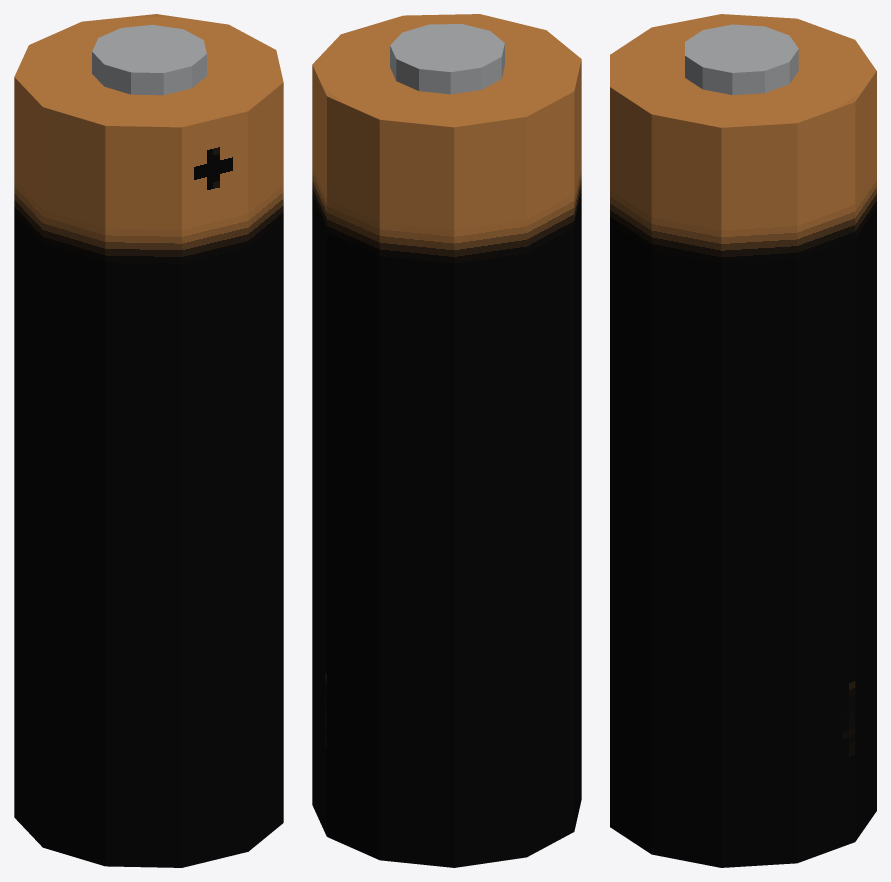
The model's file is Battery.glb.
3 views of the same model, side by side, from view 1: azimuth 30°, elevation 25°; view 2: azimuth 150°, elevation 25°; view 3: azimuth 270°, elevation 25° (orthographic).
Parts seen in each view (by area): view 1: Cell, Pole; view 2: Cell, Pole; view 3: Cell, Pole.
Boxes of the visible parts, x1=… form: Cell: x1=14, y1=14, x2=283, y2=867; Pole: x1=92, y1=24, x2=206, y2=95; Cell: x1=312, y1=14, x2=581, y2=867; Pole: x1=390, y1=24, x2=504, y2=94; Cell: x1=610, y1=14, x2=876, y2=867; Pole: x1=685, y1=24, x2=798, y2=95.
Size of the model in its own units: 1.98 by 6.18 by 1.96.
2 materials, 2 textured.
